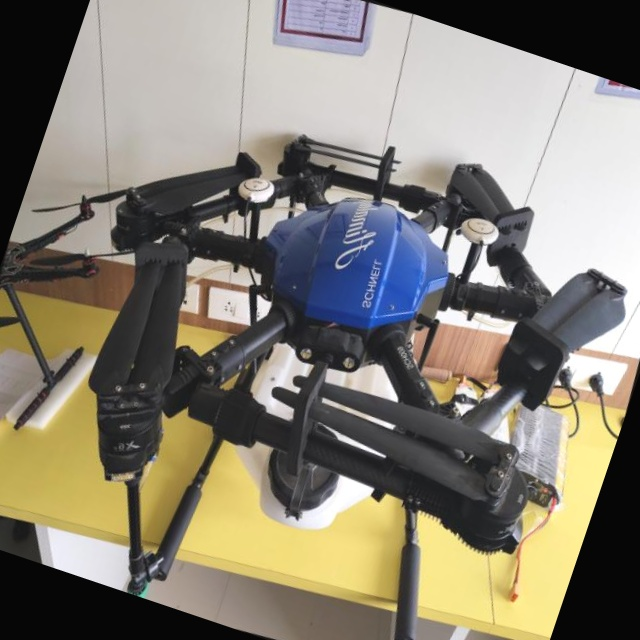agriculturedrone: (0, 18, 640, 640)
